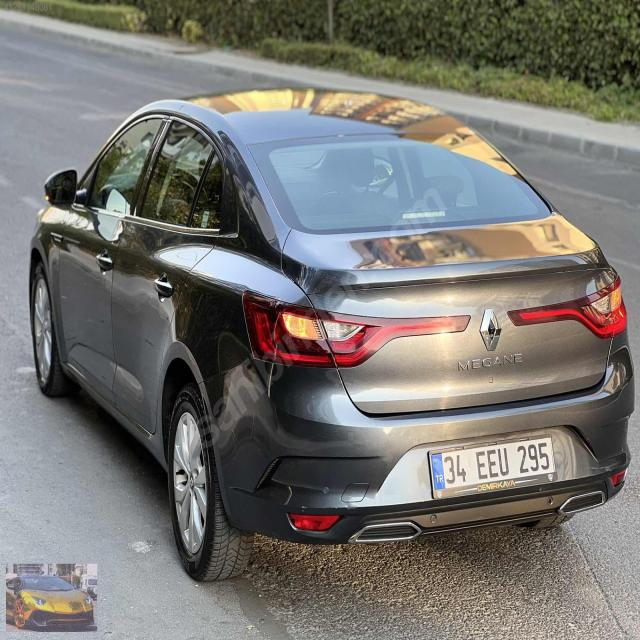renault: (477, 308, 503, 351)
